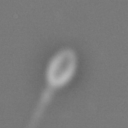normal: (23, 89, 57, 128)
